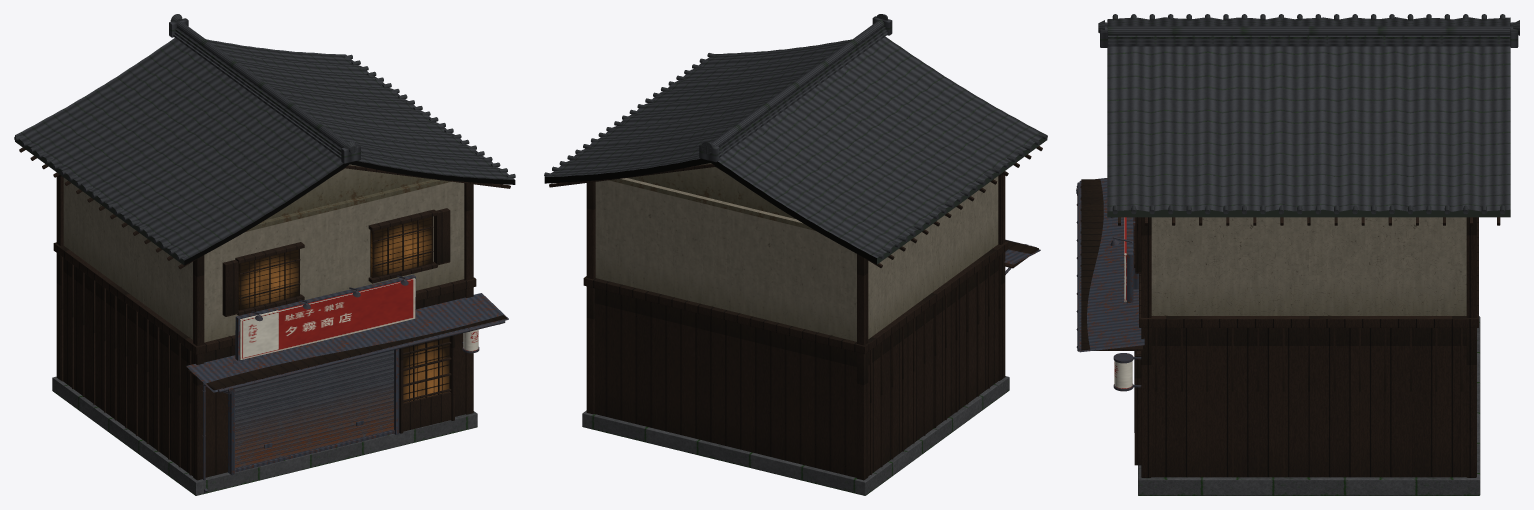
File: CornerStore_Dagashiya.fbx
3 renders of one model, left to right at view 1: azimuth 30°, elevation 25°; view 2: azimuth 150°, elevation 25°; view 3: azimuth 270°, elevation 25°, orthographic. The views are drawn at different scales.
Visible parts, largest first — view 1: CornerStore_Dagashiya; view 2: CornerStore_Dagashiya; view 3: CornerStore_Dagashiya.
Boxes of the visible parts, x1,y1,x2,y2 form: CornerStore_Dagashiya: (14,14,515,495); CornerStore_Dagashiya: (544,14,1047,495); CornerStore_Dagashiya: (1076,14,1519,495).
Bounding box in the file's own units: 8.09 × 7.59 × 7.76.
